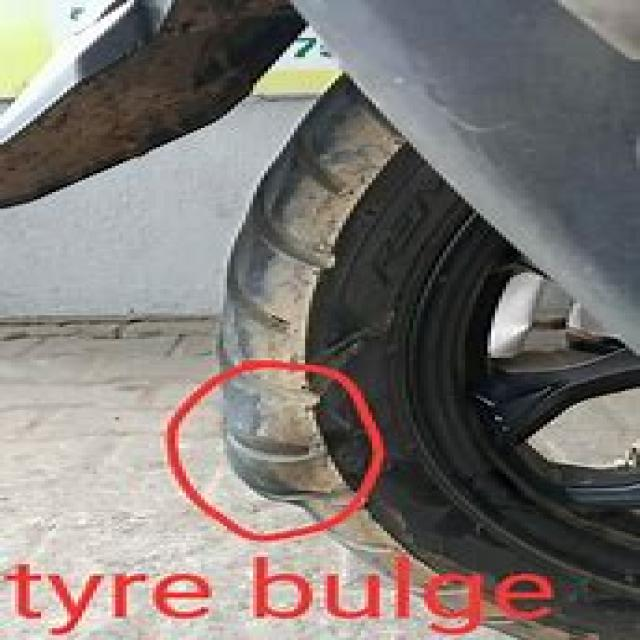Bulge: (212, 381, 352, 513)
